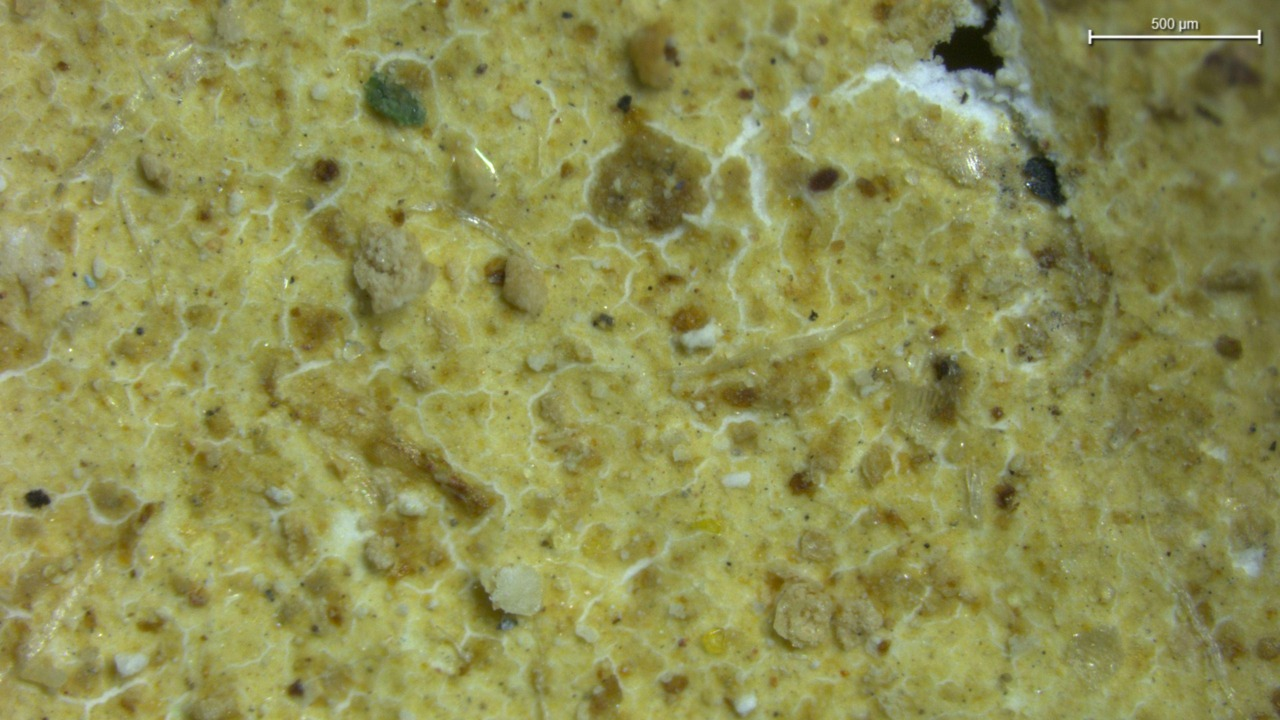microplastic_fragment: (353, 223, 437, 316), (773, 581, 832, 648), (626, 20, 678, 90), (489, 565, 542, 617), (502, 255, 547, 315), (832, 598, 883, 646)
